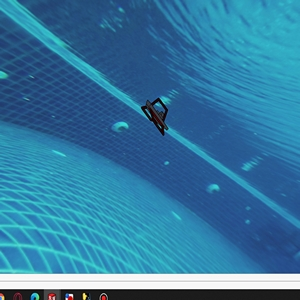submarine: (143, 97, 166, 137)
